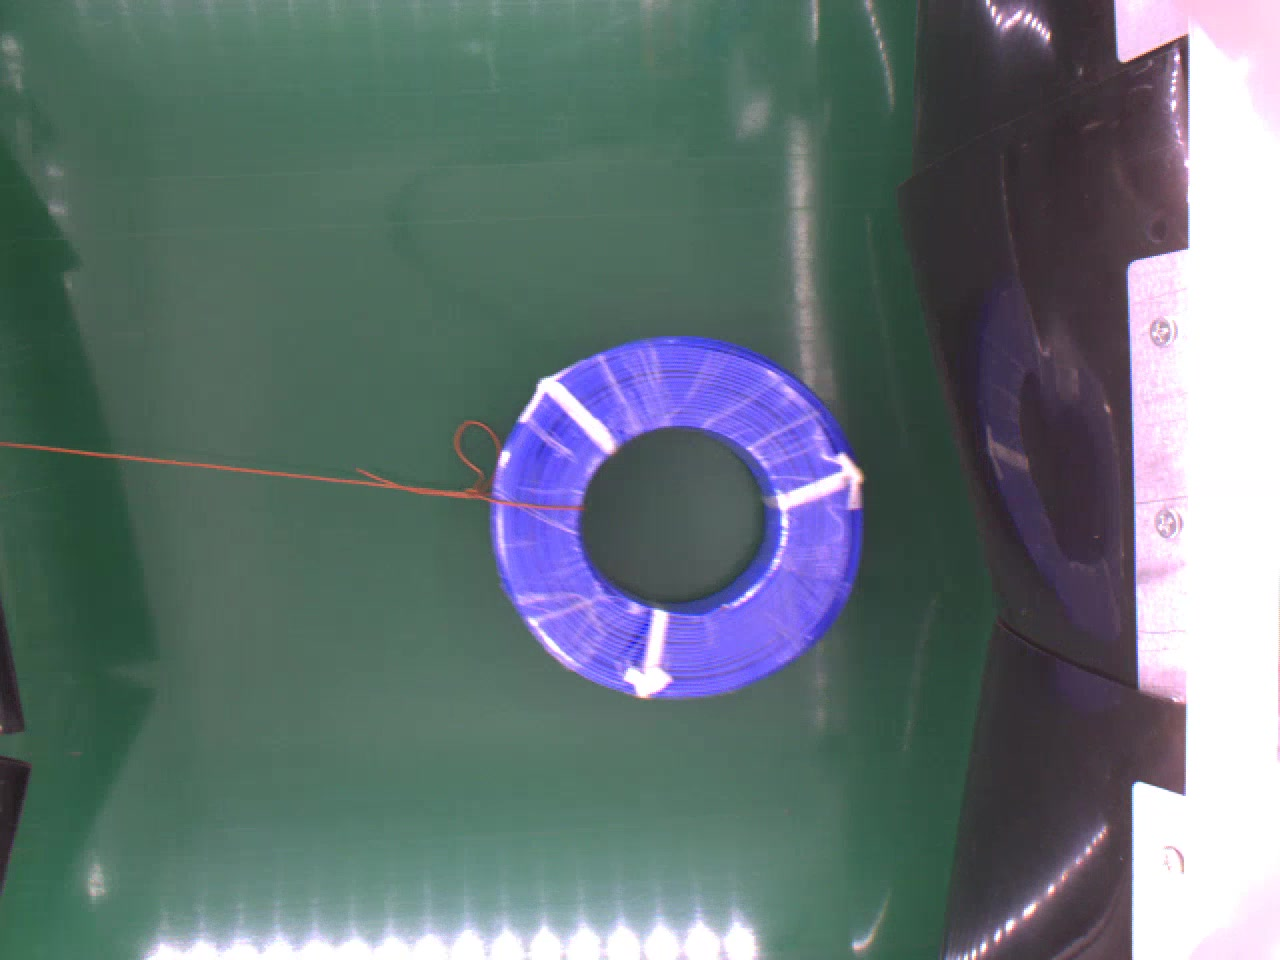blue: (484, 336, 865, 705)
